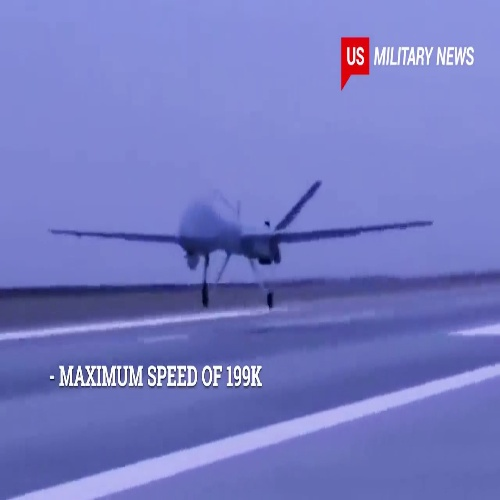uav: (47, 179, 436, 315)
